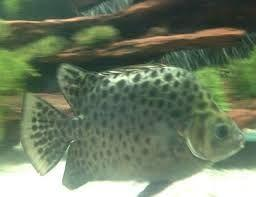Scat Fish: (23, 61, 246, 190)
